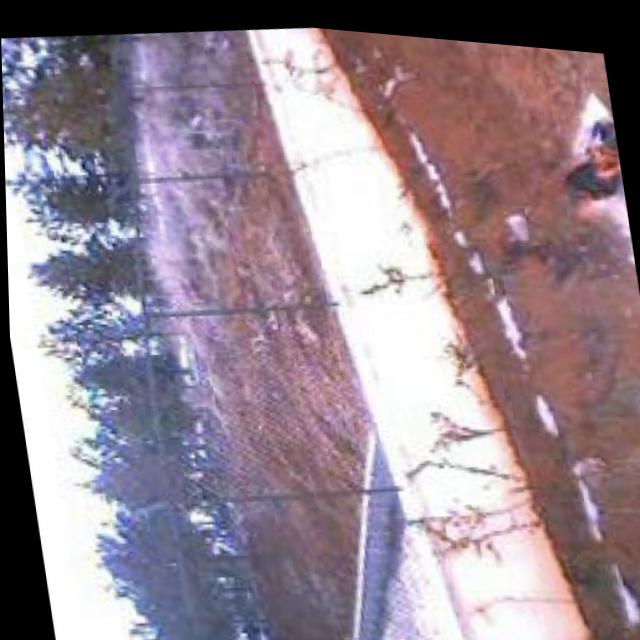Fire: (558, 110, 627, 211)
